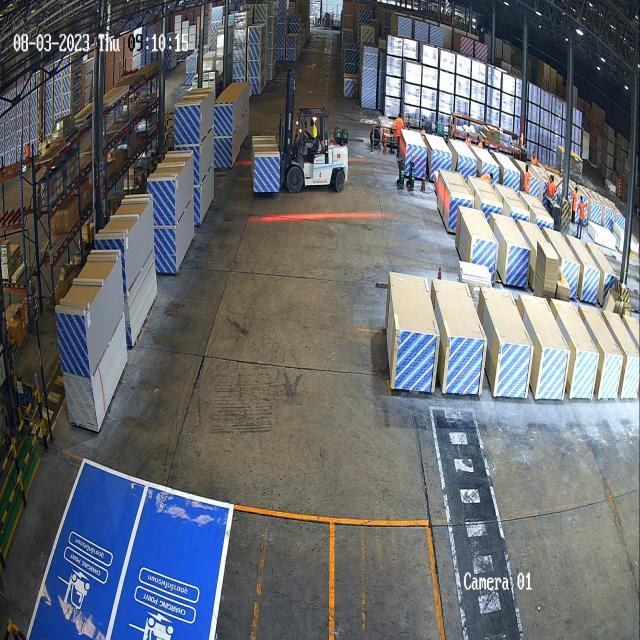driver: (305, 116, 321, 156)
forklift: (282, 68, 350, 198)
person: (577, 195, 586, 238), (394, 113, 404, 139), (572, 186, 578, 227), (546, 174, 556, 198), (524, 165, 530, 192)
